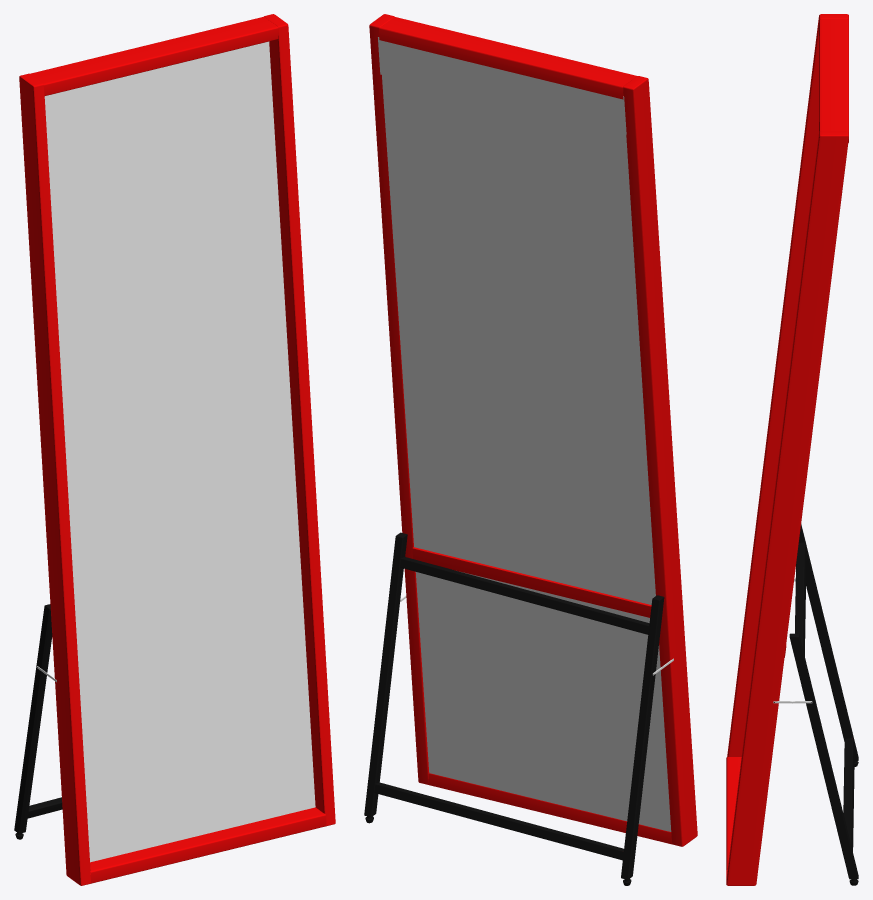
Rendered from MEGA_PACK_Mirror__mirror-337570_600_frame_red.001.glb.
3 views of the same model, side by side, from view 1: azimuth 30°, elevation 25°; view 2: azimuth 150°, elevation 25°; view 3: azimuth 270°, elevation 25° (orthographic). The views are drawn at different scales.
Visible parts, largest first — view 1: mirror-337570_600_frame_red.001; view 2: mirror-337570_600_frame_red.001; view 3: mirror-337570_600_frame_red.001.
Boxes of the visible parts, x1,y1,x2,y2 form: mirror-337570_600_frame_red.001: [14, 14, 335, 885]; mirror-337570_600_frame_red.001: [364, 14, 697, 885]; mirror-337570_600_frame_red.001: [726, 14, 858, 885].
Size of the model in its own units: 0.5975 by 1.71 by 0.2725.
1 material, 1 textured.
